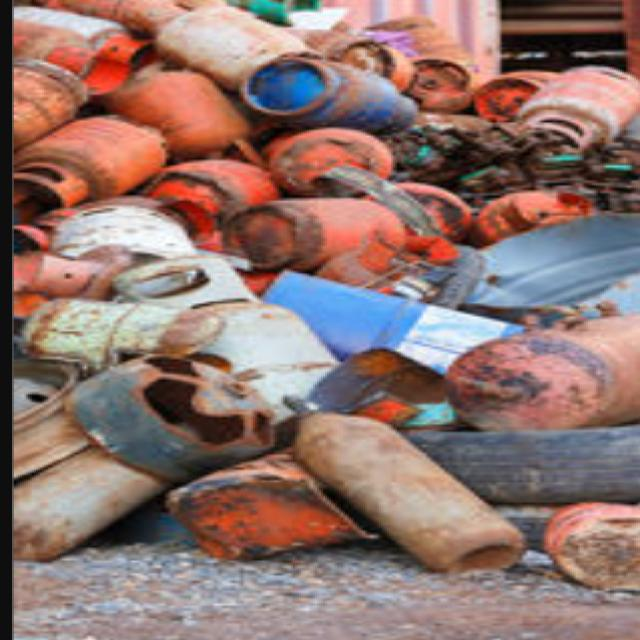cylinder: (283, 395, 526, 572), (112, 256, 340, 400), (12, 116, 167, 210), (239, 56, 419, 135), (516, 66, 638, 150)
